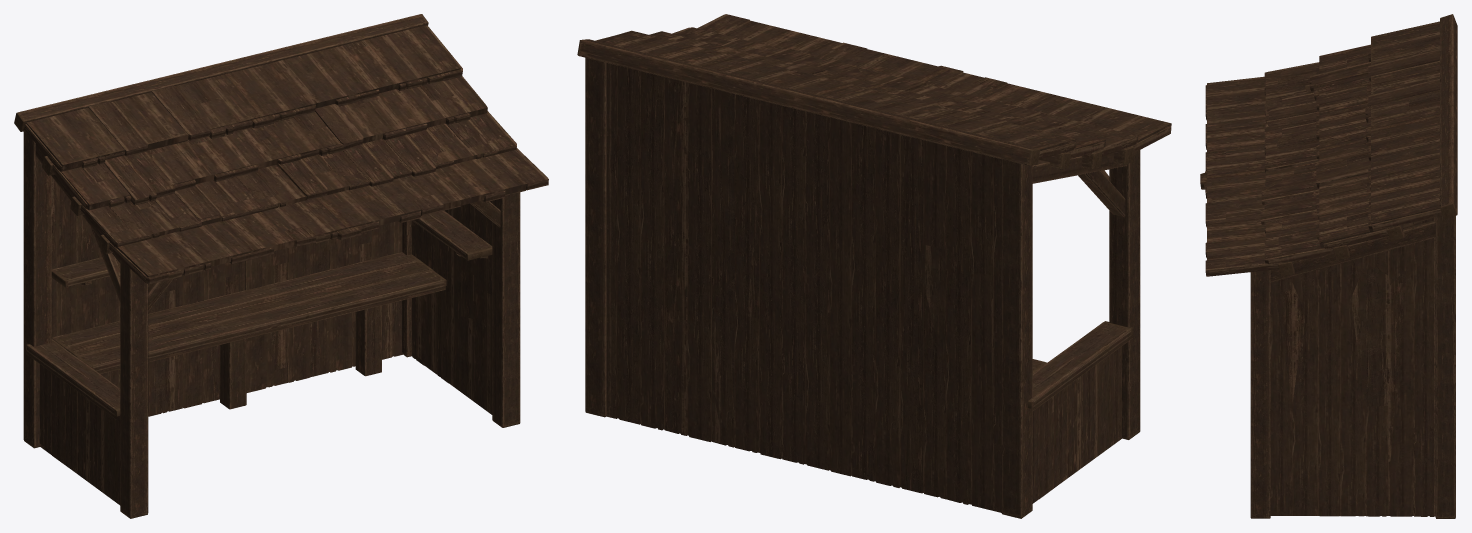
The model's file is MarketStall01.glb.
3 views of the same model, side by side, from view 1: azimuth 30°, elevation 25°; view 2: azimuth 150°, elevation 25°; view 3: azimuth 270°, elevation 25° (orthographic). The views are drawn at different scales.
Visible parts, largest first — view 1: MarketStall01; view 2: MarketStall01; view 3: MarketStall01.
Part boxes in pixels (bbox=[...]): MarketStall01: bbox=[14, 14, 548, 518]; MarketStall01: bbox=[577, 14, 1171, 518]; MarketStall01: bbox=[1200, 14, 1457, 518].
Bounding box in the file's own units: 4.37 × 3.42 × 2.5.
Materials: 1 (1 with a texture image).
